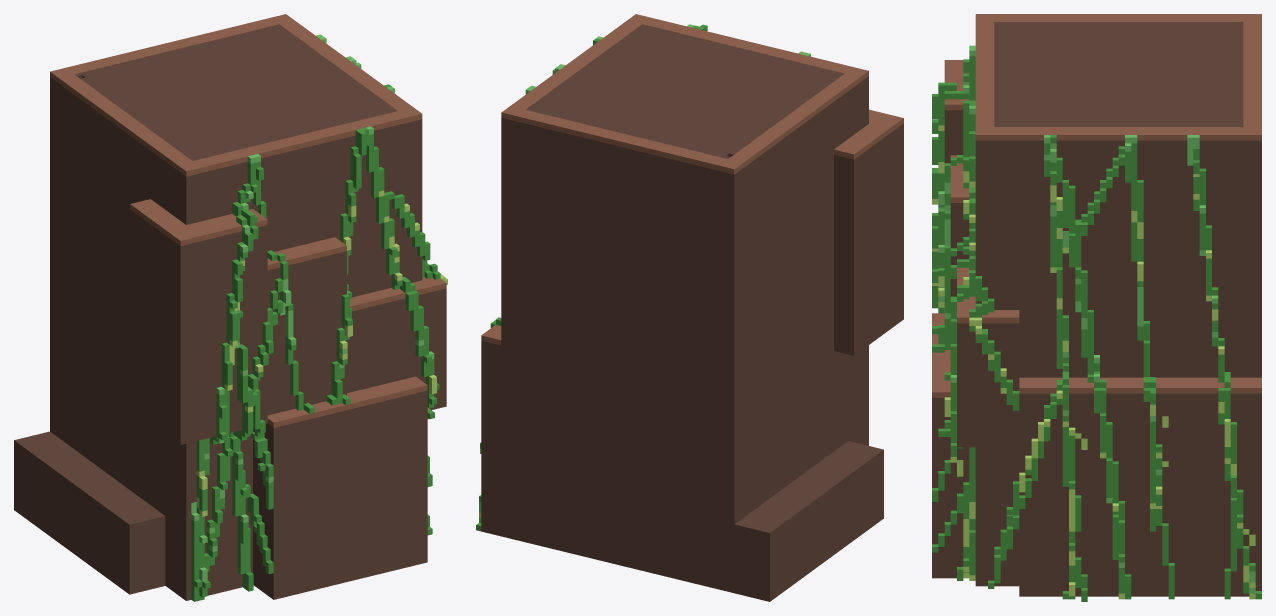
The model's file is pilar_hierba1.obj.
3 renders of one model, left to right at view 1: azimuth 30°, elevation 25°; view 2: azimuth 150°, elevation 25°; view 3: azimuth 270°, elevation 25°, orthographic. The views are drawn at different scales.
Size of the model in its own units: 5.9 by 8 by 5.3.
Materials: 1 (1 with a texture image).
